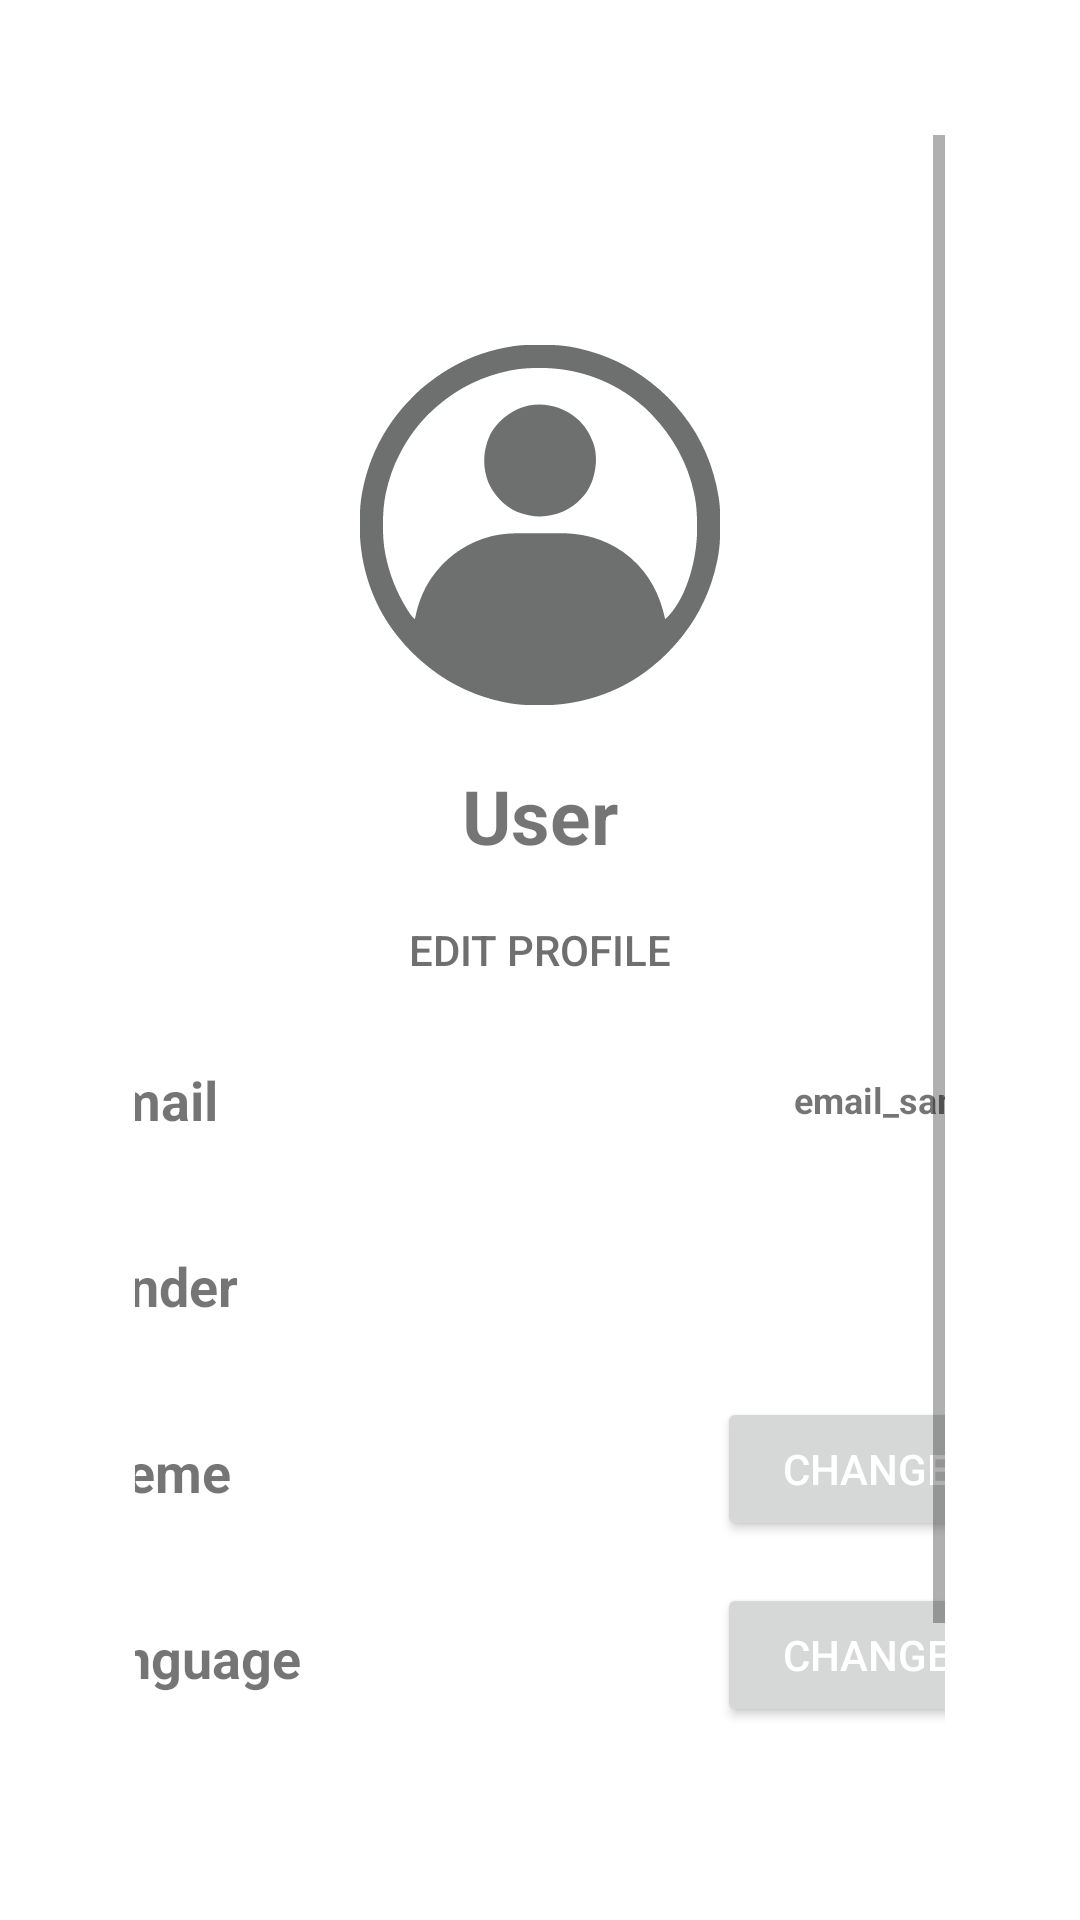

Named icons in this screenshot (1080px x 1920px) and their bounding boxes, (x1, y1, x2, y2):
Profile Picture: (360, 345, 720, 705)
